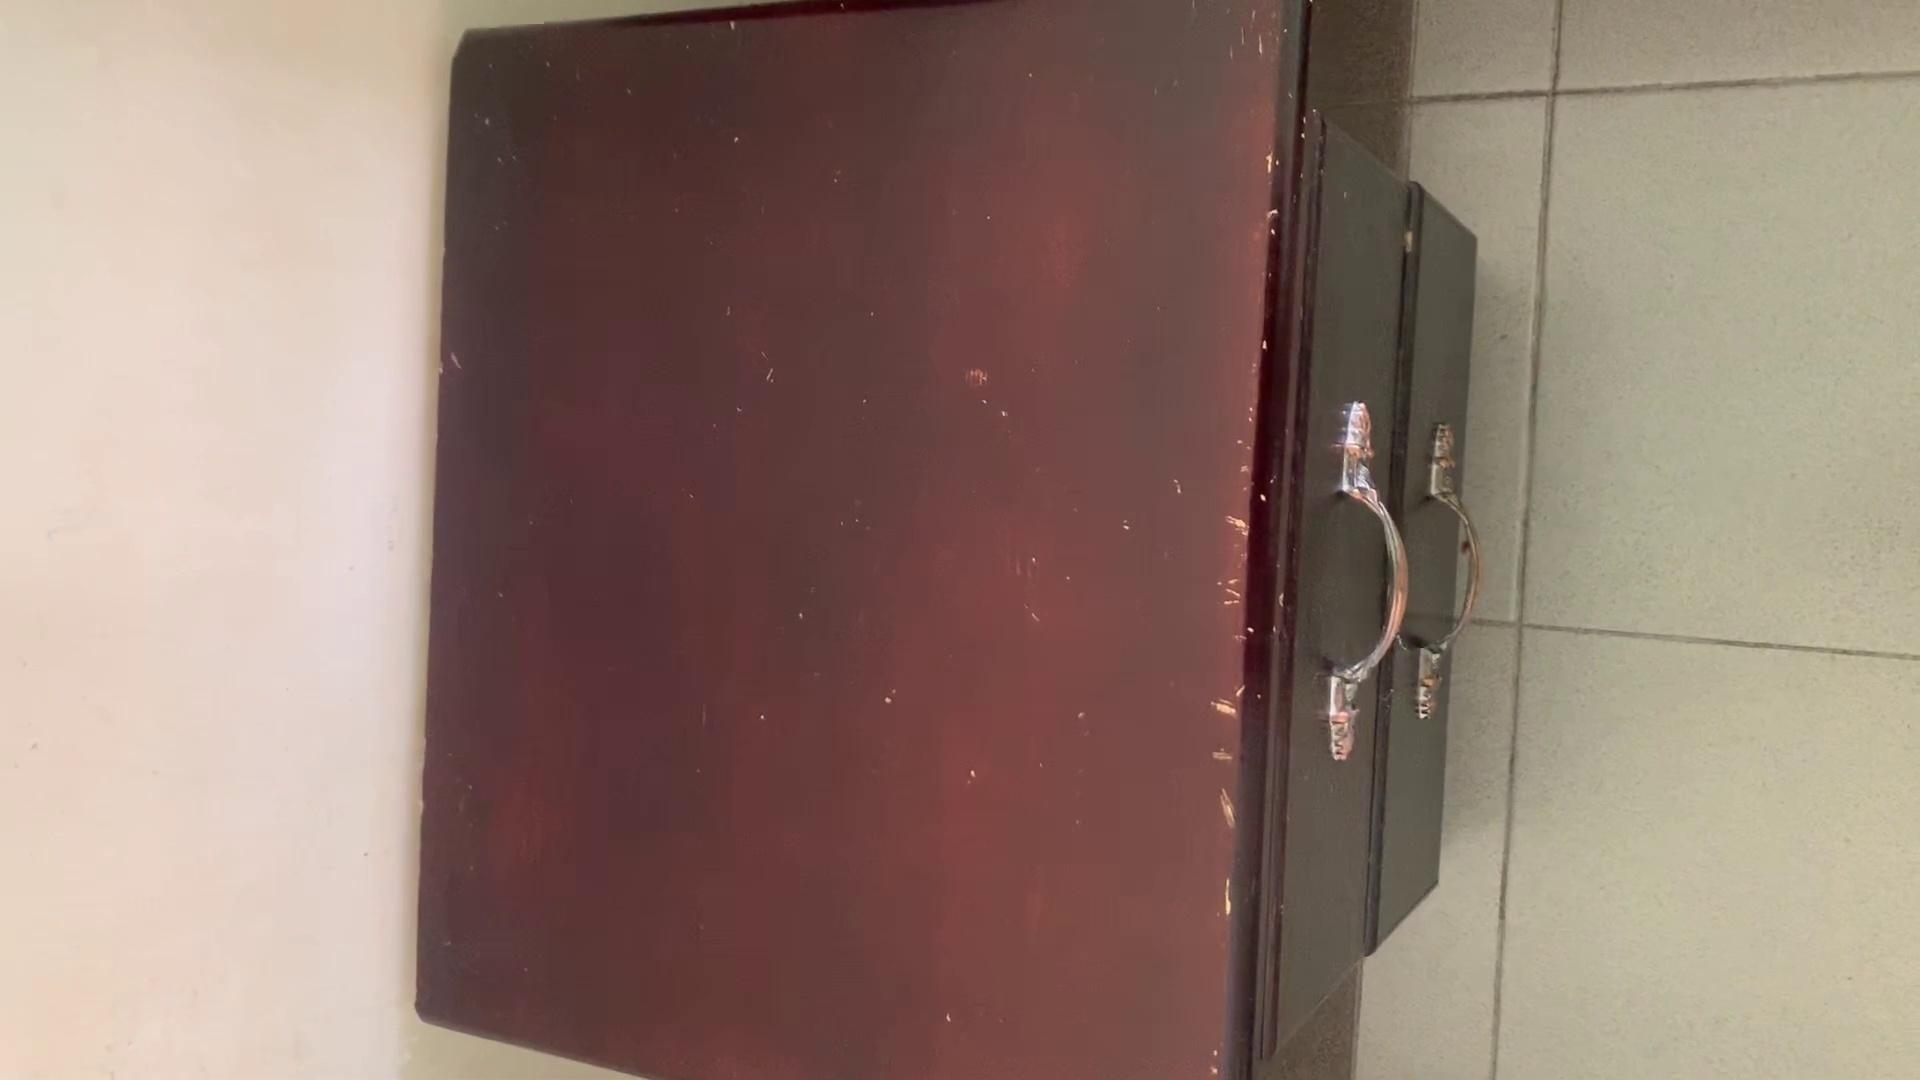cabinet_door: (1287, 135, 1371, 1021), (1394, 171, 1453, 920)
handle: (1323, 394, 1415, 766), (1410, 413, 1486, 732)
